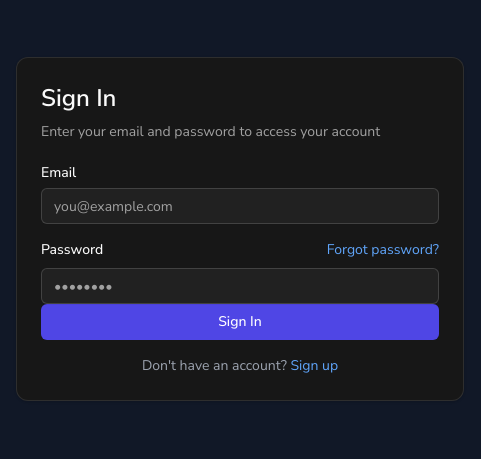
Test case: SignInPage error and 2FA handling (#198) › says so when the new link could not be sent
This screenshot has width=481, height=459.
Type "test@example.com" into the field labelled "Email" at (240, 206), box [41,188,439,224]
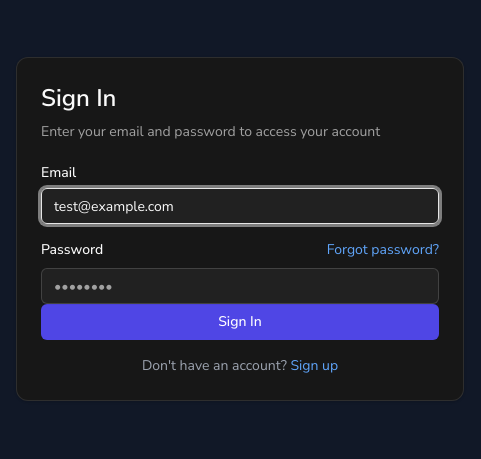
Type "pw1234" into the password field labelled "Password" at (240, 286), box [41,268,439,304]
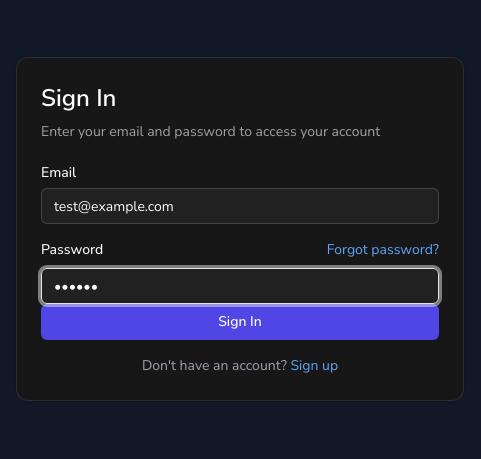
Click the button "Sign In" at (240, 322), box [41,304,439,340]
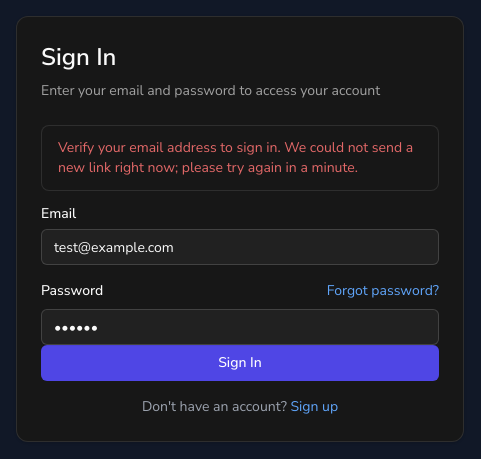
Expected: the text "could not send a new link" is shown, [58,138,413,177]
